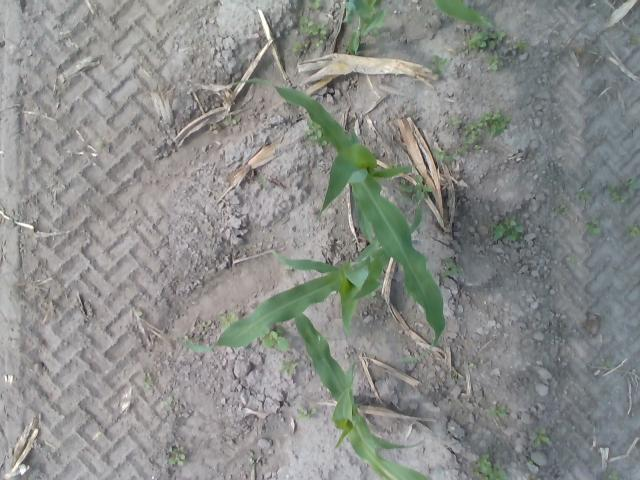Maize: (232, 79, 445, 347), (178, 198, 424, 354), (295, 313, 431, 480), (342, 0, 490, 57)
Weeds: (490, 216, 522, 243), (484, 110, 509, 135), (264, 330, 290, 352), (415, 174, 433, 200), (442, 258, 463, 278), (168, 447, 186, 466), (464, 119, 484, 136), (470, 31, 487, 49), (306, 120, 322, 139), (535, 428, 549, 447), (432, 148, 451, 162), (282, 360, 298, 376), (490, 403, 506, 419), (296, 408, 317, 420), (484, 469, 506, 480), (300, 17, 314, 34), (626, 176, 640, 192), (484, 34, 498, 50), (491, 53, 502, 72), (584, 220, 600, 233), (398, 179, 412, 193), (312, 23, 326, 36), (434, 56, 444, 73), (476, 453, 490, 465), (221, 312, 236, 323), (293, 44, 308, 54), (144, 372, 153, 388), (603, 470, 617, 480), (481, 462, 492, 473), (576, 192, 591, 200), (448, 118, 462, 126), (516, 41, 526, 52), (611, 192, 621, 202), (605, 184, 615, 194), (470, 133, 480, 143), (496, 30, 506, 40), (313, 139, 327, 146), (556, 206, 568, 214), (631, 224, 639, 236), (462, 140, 471, 150), (400, 193, 408, 204), (225, 119, 237, 126), (310, 0, 320, 8), (203, 320, 212, 328), (604, 362, 614, 369), (566, 257, 576, 262), (97, 140, 105, 146), (168, 396, 174, 404), (451, 372, 459, 378), (184, 330, 189, 339), (258, 176, 265, 182), (631, 38, 638, 44), (452, 150, 462, 154), (316, 40, 322, 46), (138, 312, 144, 316)
